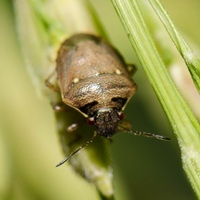insect: (45, 33, 135, 136)
